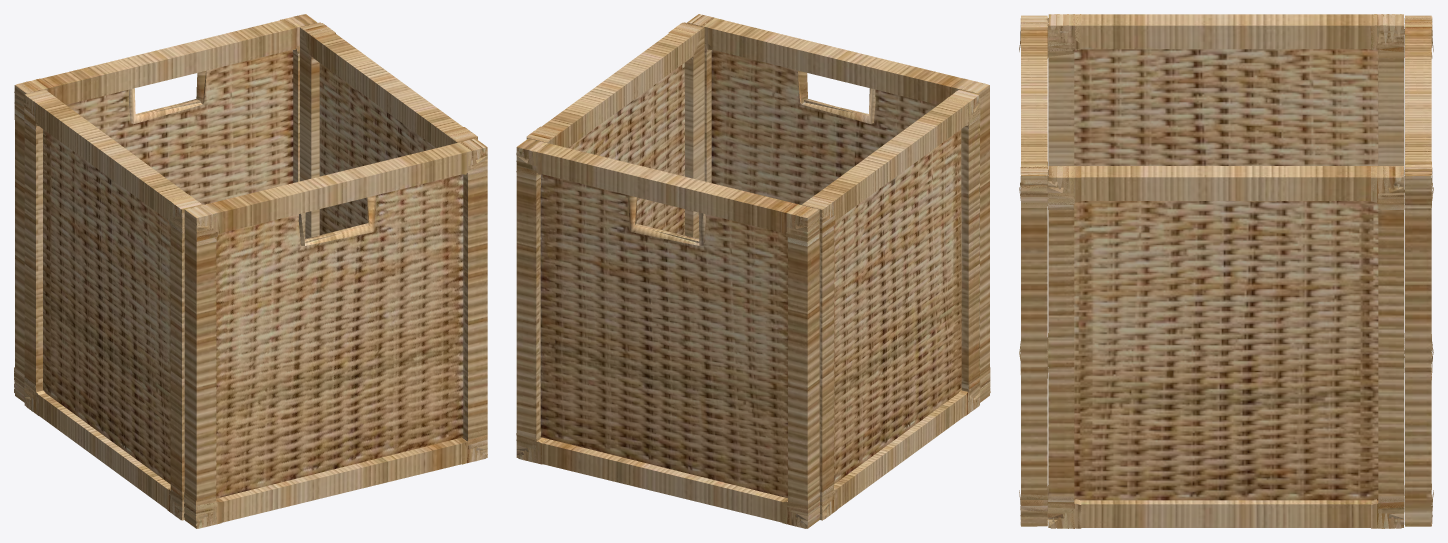
The model's file is branas_kosz_00138432.glb.
The picture shows the model from 3 angles, left to right: view 1: azimuth 30°, elevation 25°; view 2: azimuth 150°, elevation 25°; view 3: azimuth 270°, elevation 25°; orthographic projection. The views are drawn at different scales.
Parts seen in each view (by area): view 1: branas_kosz_00138432; view 2: branas_kosz_00138432; view 3: branas_kosz_00138432.
Part boxes in pixels (x1,y1,x2,y2): branas_kosz_00138432: [14, 14, 487, 528]; branas_kosz_00138432: [516, 14, 990, 528]; branas_kosz_00138432: [1019, 14, 1433, 528].
Size of the model in its own units: 0.3194 by 0.3187 by 0.3394.
1 material, 1 textured.
